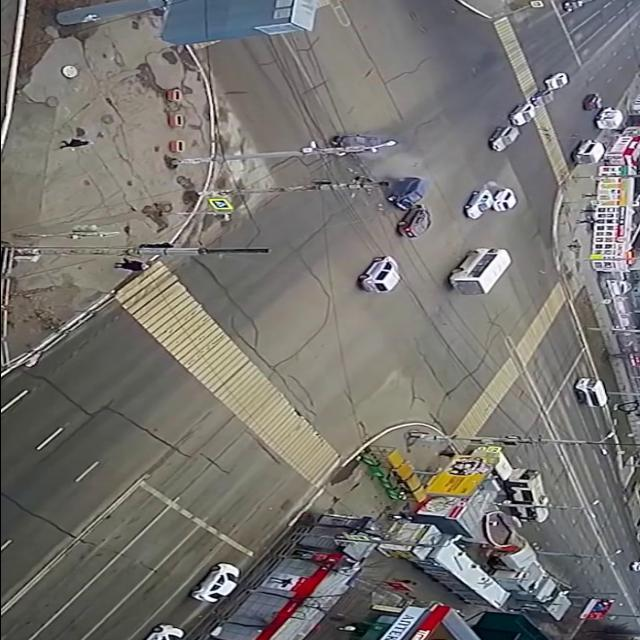accident: (325, 134, 438, 217)
non_accident: (480, 71, 576, 155), (456, 183, 528, 223)
